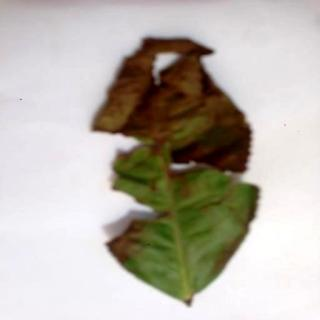Algal Leaf: (91, 37, 262, 308)
